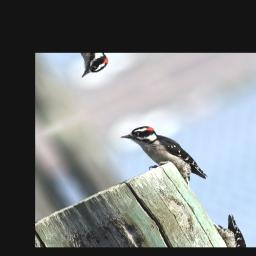Woodpecker: (119, 113, 209, 199)
